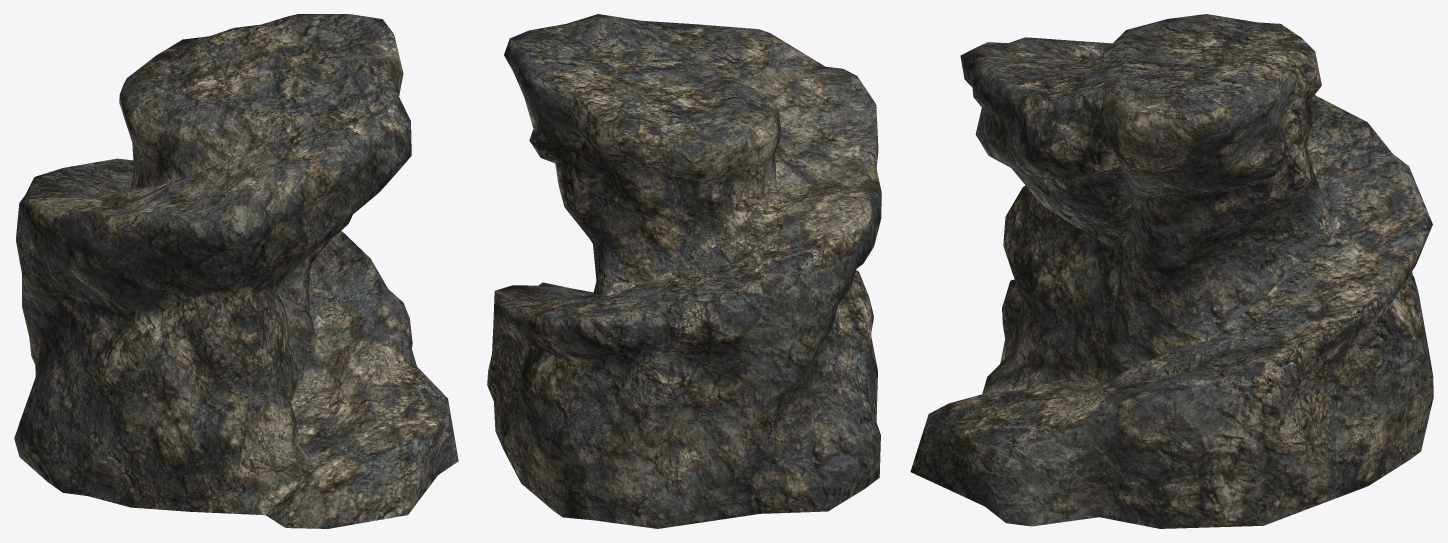
File: Module24B.fbx
3 renders of one model, left to right at view 1: azimuth 30°, elevation 25°; view 2: azimuth 150°, elevation 25°; view 3: azimuth 270°, elevation 25°, orthographic. The views are drawn at different scales.
Parts seen in each view (by area): view 1: cave_el24B_1000_Group60957; view 2: cave_el24B_1000_Group60957; view 3: cave_el24B_1000_Group60957.
Part boxes in pixels (<box>): cave_el24B_1000_Group60957: <box>14,14,458,528</box>; cave_el24B_1000_Group60957: <box>487,14,881,528</box>; cave_el24B_1000_Group60957: <box>910,14,1433,528</box>.
Bounding box in the file's own units: 19.19 × 18.88 × 21.15.
